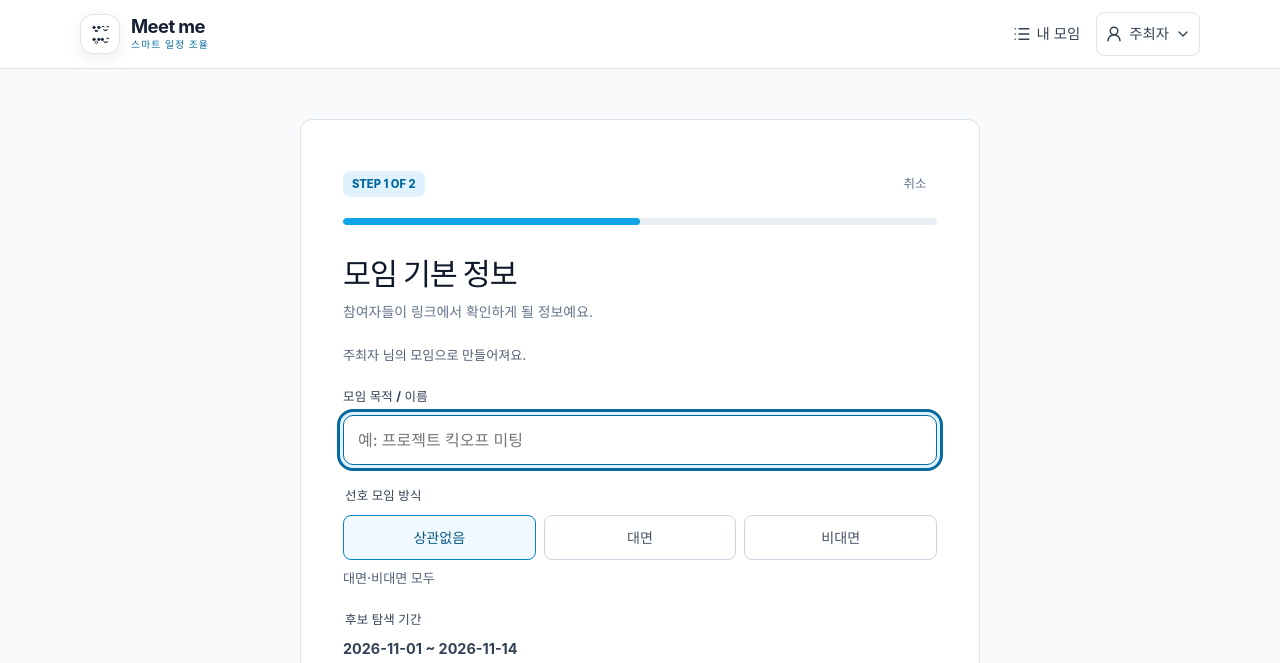
Test: #22 creation and host submission are separate › creates without conditions and keeps the successful room and share link when the next read fails
Expected: the text "주최자 님의 모임으로 만들어져요." is shown, x1=343 y1=347 x2=526 y2=363
Step 1. Type "생성 후 입력" into the field labelled "모임 목적 / 이름" → (640,440), box x1=343 y1=415 x2=937 y2=465
(page scrolled)
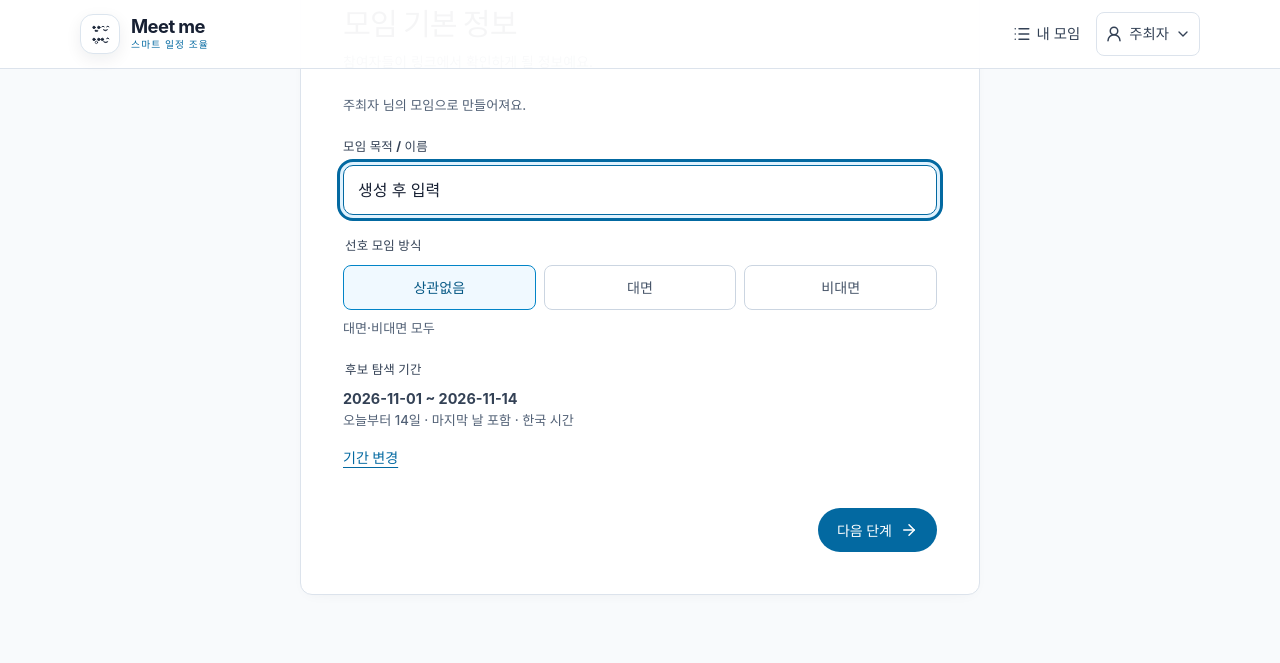
Step 2. Click the button "다음 단계" → (877,530), box x1=818 y1=508 x2=937 y2=552
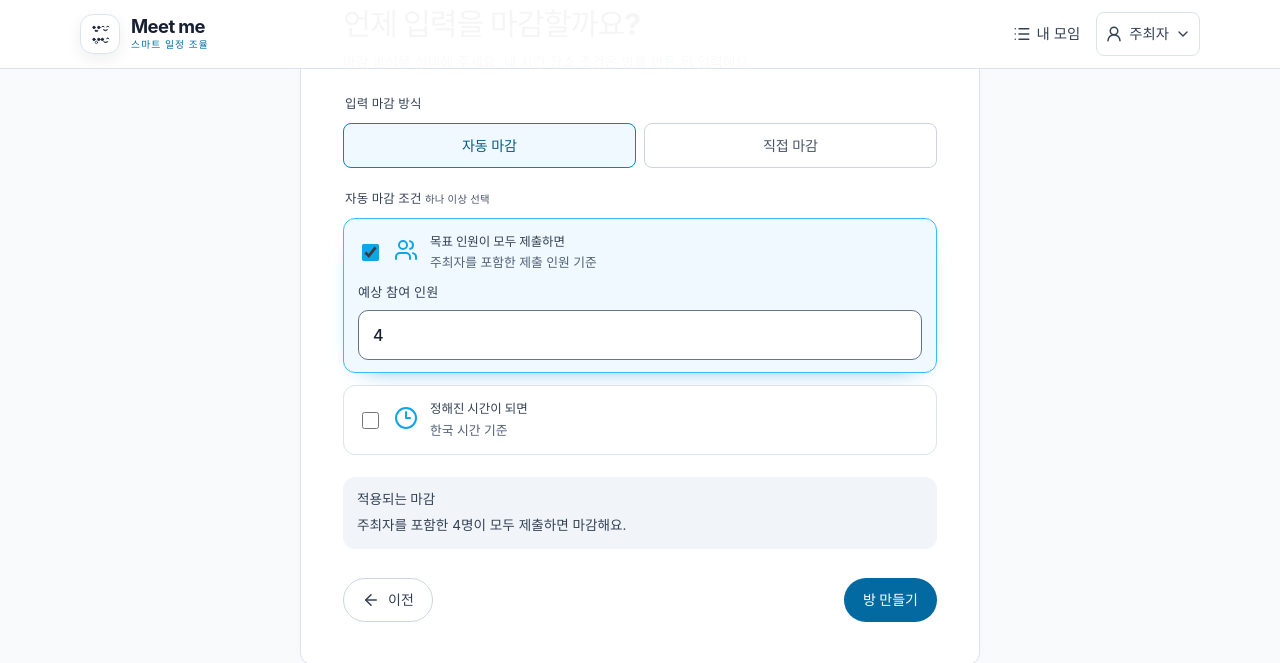
Step 3. Submit the form named "방 만들기", box x1=343 y1=5 x2=937 y2=622
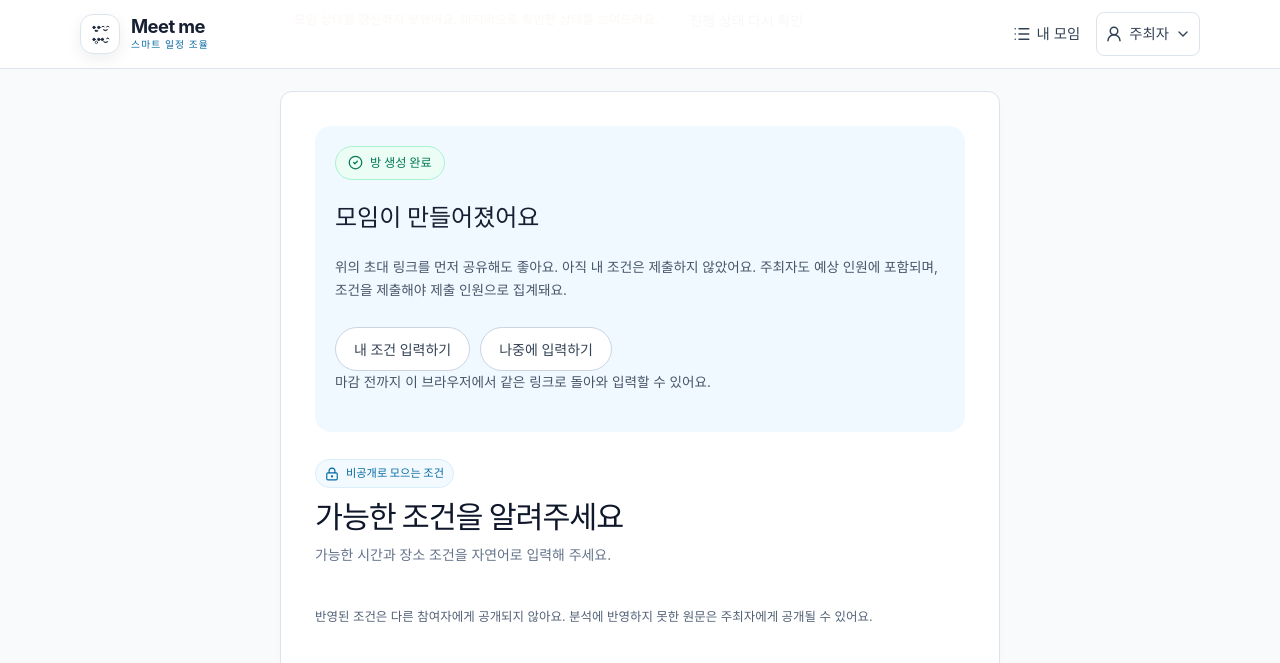
Expected: the heading "모임이 만들어졌어요" is shown, x1=335 y1=203 x2=539 y2=232
Expected: the text "아직 내 조건은 제출하지 않았어요." is shown, x1=335 y1=259 x2=938 y2=298
